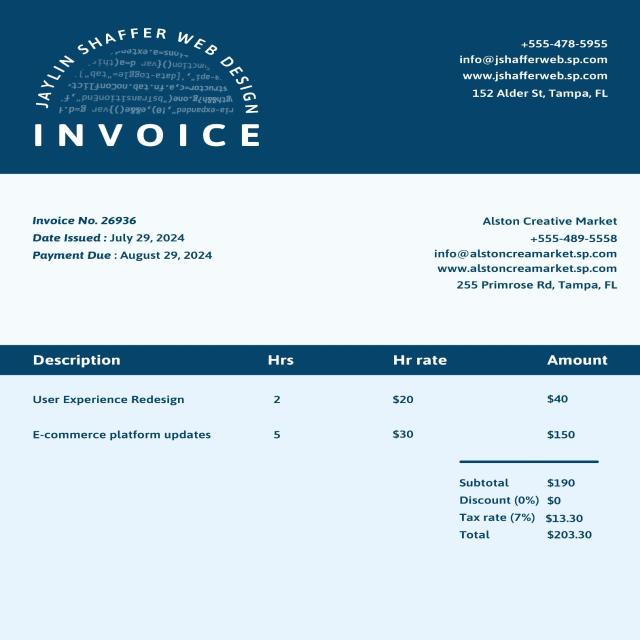paragraph: (17, 11, 282, 118), (418, 205, 628, 308), (442, 11, 619, 122), (19, 207, 222, 272), (450, 465, 606, 547), (26, 123, 270, 154)
table: (8, 331, 623, 450)
